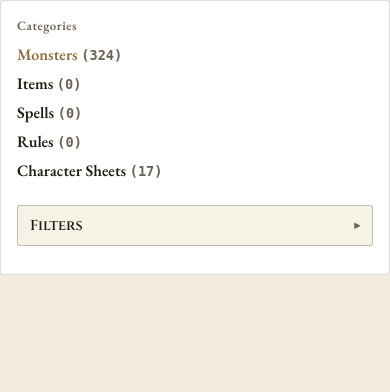
Scenario: Sidebar › shows a count next to each tag
Click the checkbox "Filters" at [56, 226], box [17,205,373,246]
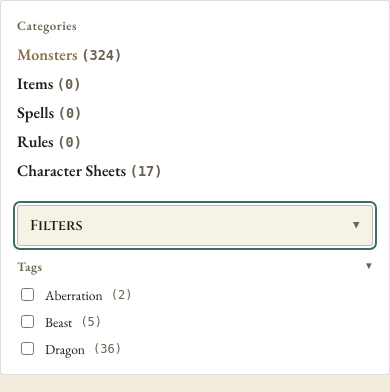
Now the text "(36)" is shown, box [93,342,122,356]
